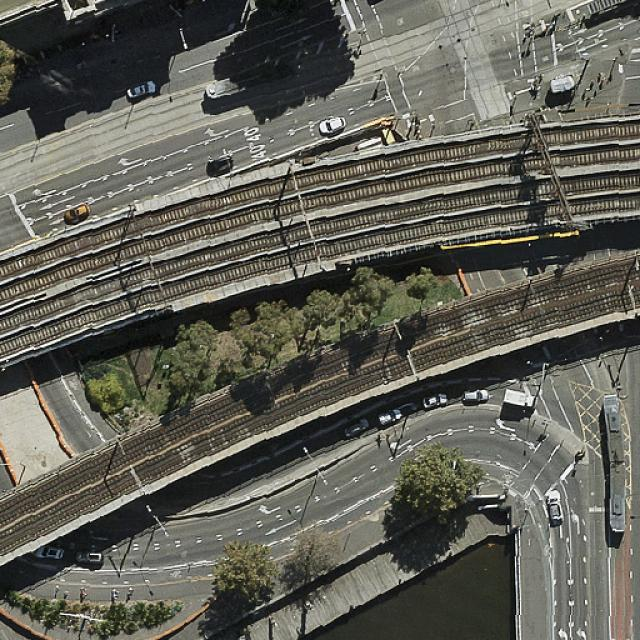Bike-Symbols: (67, 376, 84, 392), (500, 470, 515, 486), (169, 569, 183, 580)
